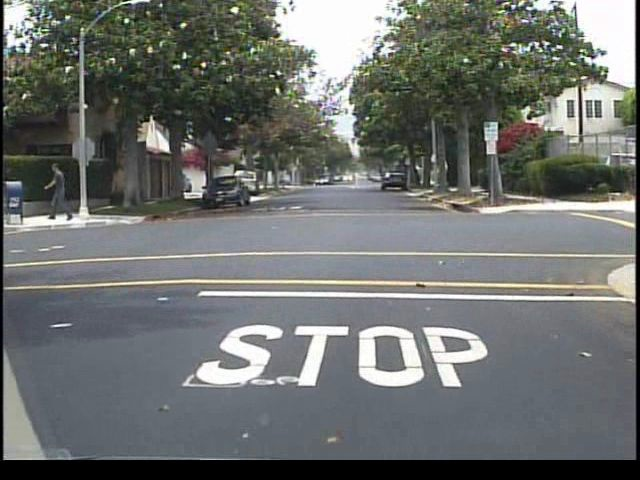person: (46, 160, 77, 226)
